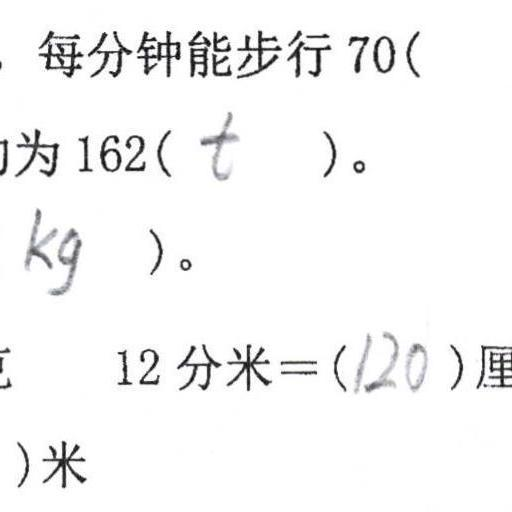ans: (19, 203, 84, 297), (350, 323, 428, 396), (192, 106, 240, 183)
